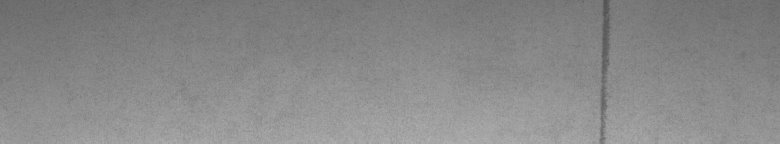hd: (596, 4, 615, 136)
